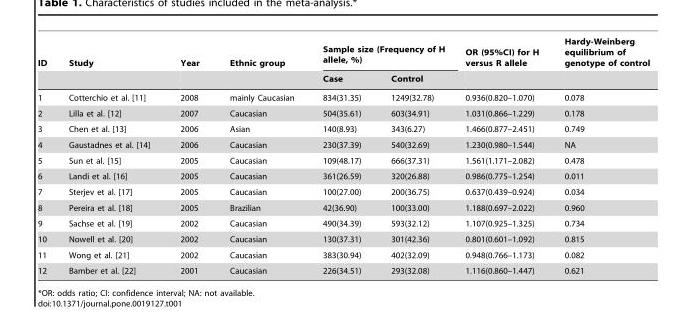table: (37, 36, 649, 274)
table column: (57, 36, 164, 274), (551, 36, 649, 274), (454, 36, 551, 274), (213, 36, 307, 274), (375, 36, 454, 274), (307, 36, 375, 274), (164, 36, 213, 274), (37, 36, 57, 274)
table column header: (37, 36, 649, 87)
table row: (37, 36, 649, 70), (37, 87, 649, 105), (37, 70, 649, 87), (37, 105, 649, 121), (37, 136, 649, 152), (37, 152, 649, 168), (37, 183, 649, 199), (37, 199, 649, 215), (37, 215, 649, 231), (37, 246, 649, 262), (37, 121, 649, 136), (37, 168, 649, 183), (37, 231, 649, 246), (37, 262, 649, 274)
table spanning cell: (57, 36, 164, 87), (307, 36, 454, 70), (551, 36, 649, 87), (454, 36, 551, 87), (213, 36, 307, 87), (164, 36, 213, 87), (37, 36, 57, 87)
